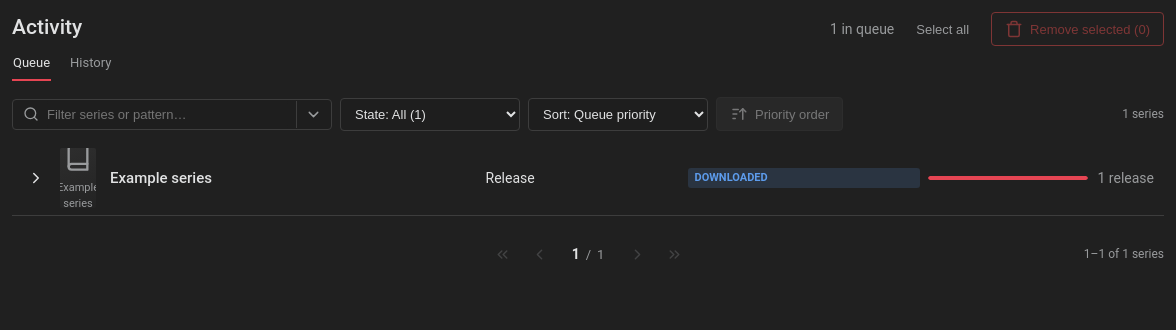
Test case: does not ask the operator to decide a release's language review
Check: the link "Example series" is shown, box [110,168,212,186]
Step 1. Click the button titled "Show items" → click(36, 178), box [22,160,50,196]
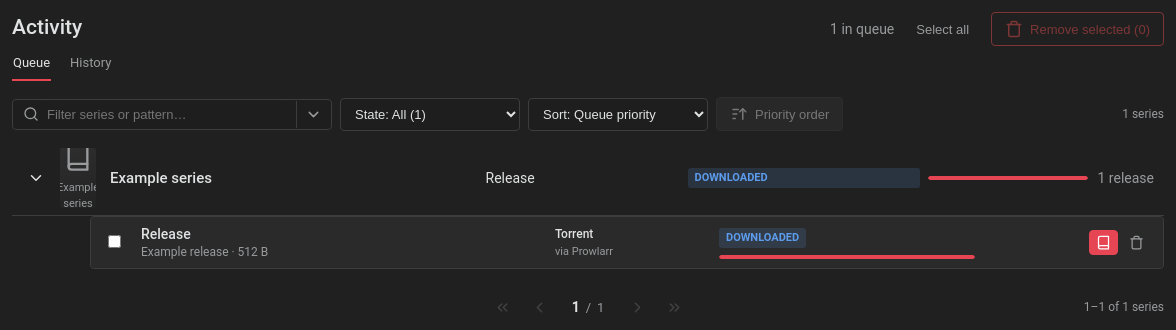
Check: the button titled "Import now" is shown, box [1089,230,1118,255]
